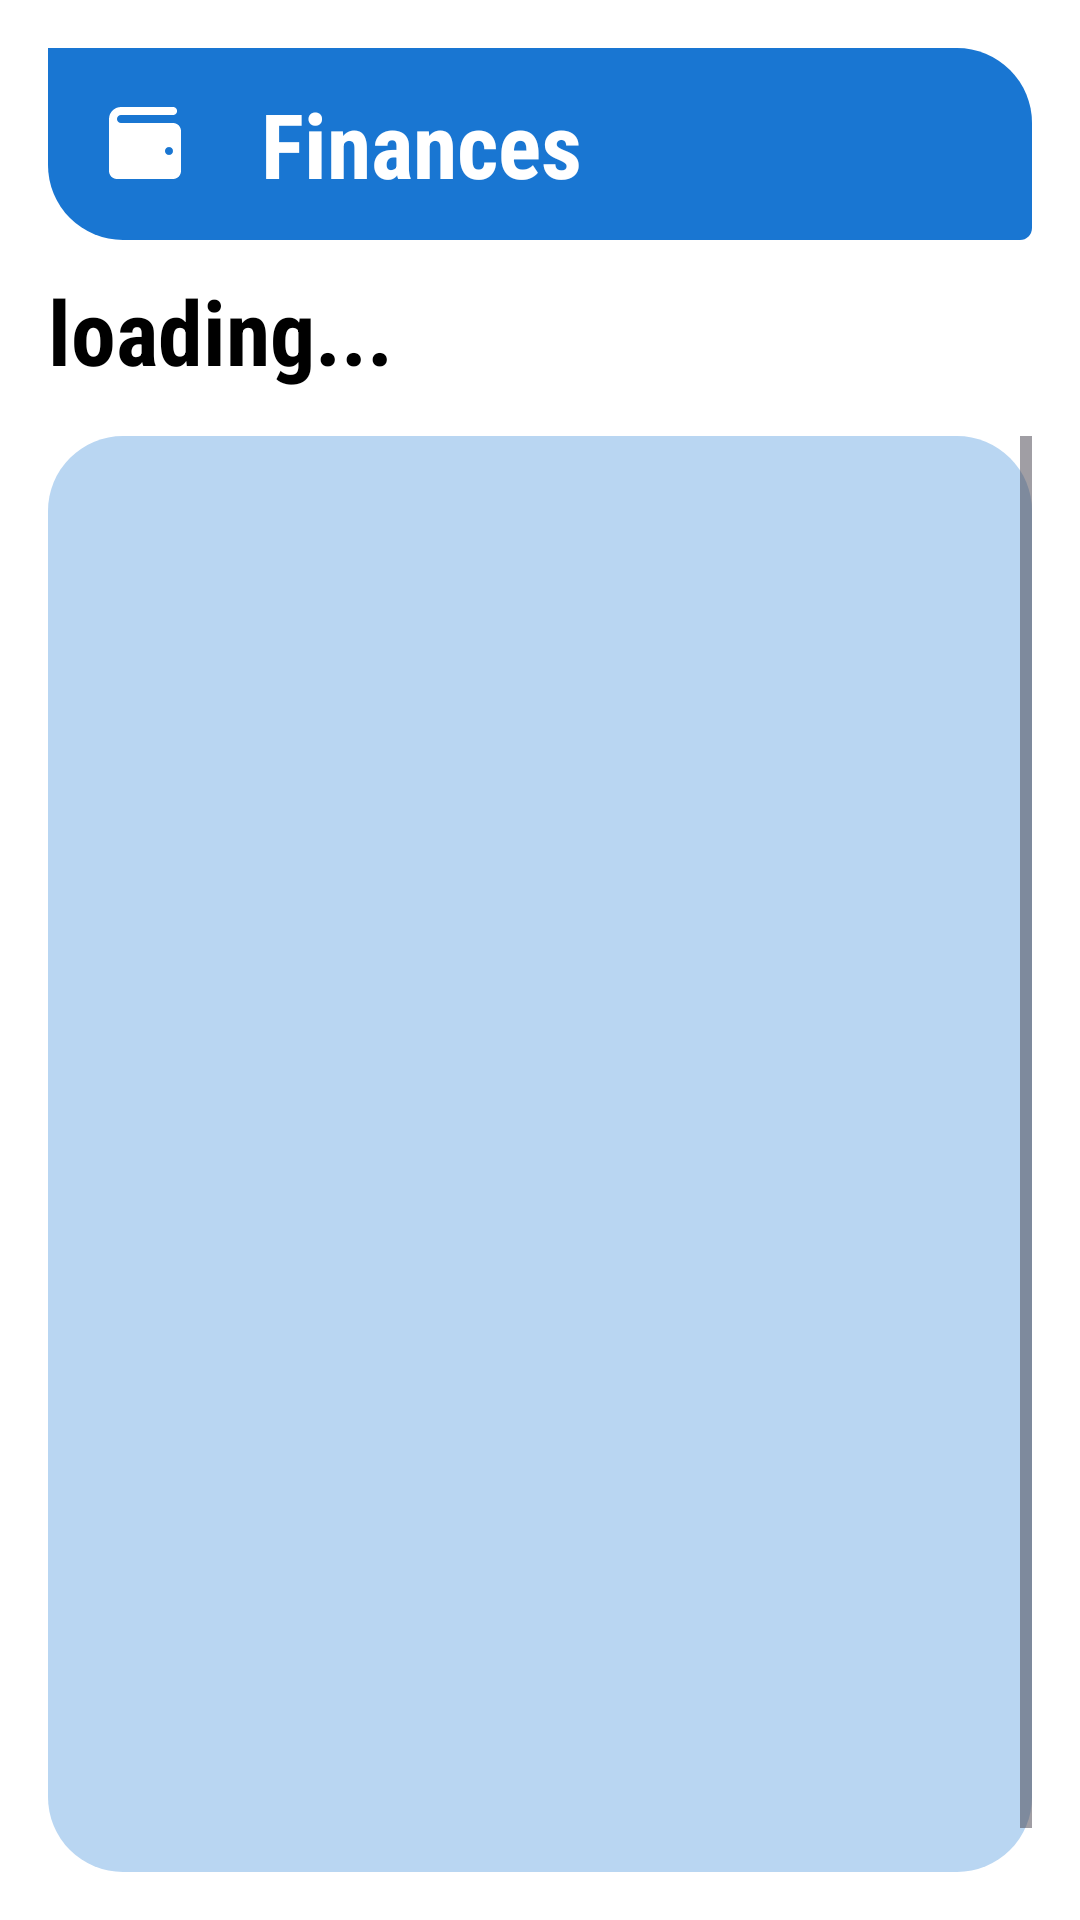

Named icons in this screenshot (1080x1920) and their bounding boxes, (x1, y1, x2, y2):
finance no: (109, 107, 181, 179)
